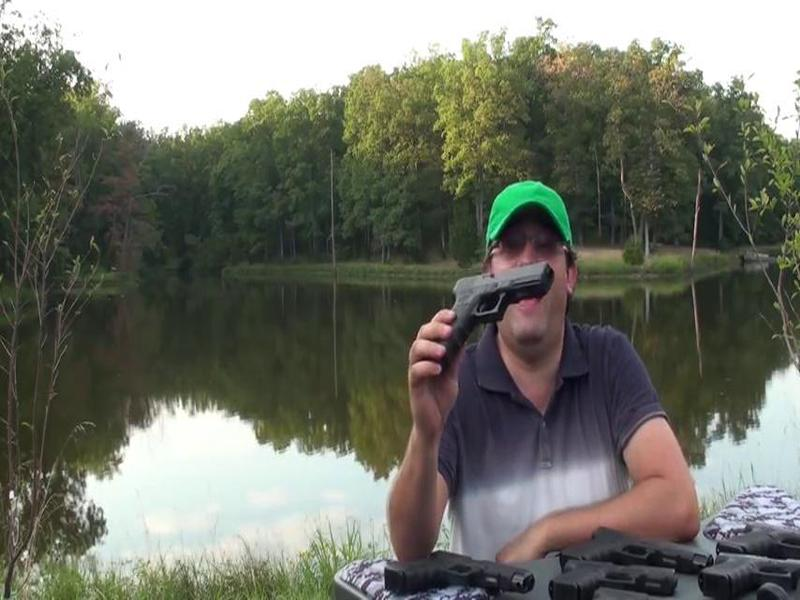Pistola: (408, 246, 567, 387)
